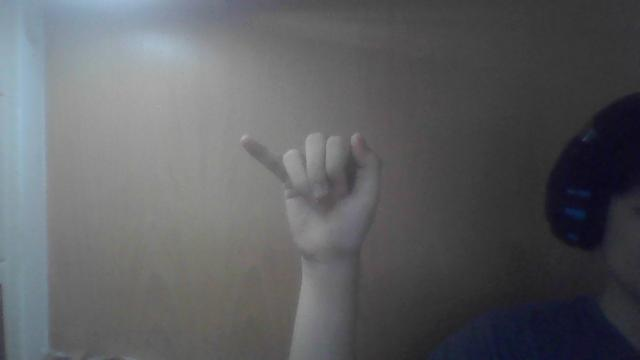Right: (238, 127, 384, 255)
